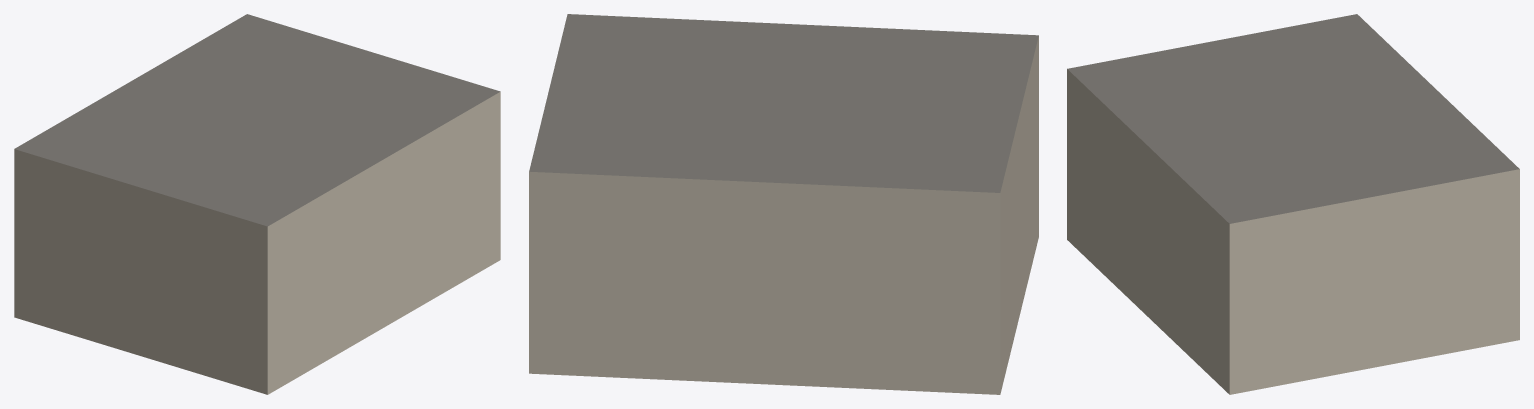
3 renders of one model, left to right at view 1: azimuth 30°, elevation 25°; view 2: azimuth 150°, elevation 25°; view 3: azimuth 270°, elevation 25°, orthographic. The views are drawn at different scales.
Parts seen in each view (by area): view 1: HP-w859447932; view 2: HP-w859447932; view 3: HP-w859447932.
Boxes of the visible parts, x1,y1,x2,y2 form: HP-w859447932: [14, 14, 500, 394]; HP-w859447932: [529, 14, 1038, 394]; HP-w859447932: [1067, 14, 1519, 394].
Bounding box in the file's own units: 47.39 × 18 × 43.19.
